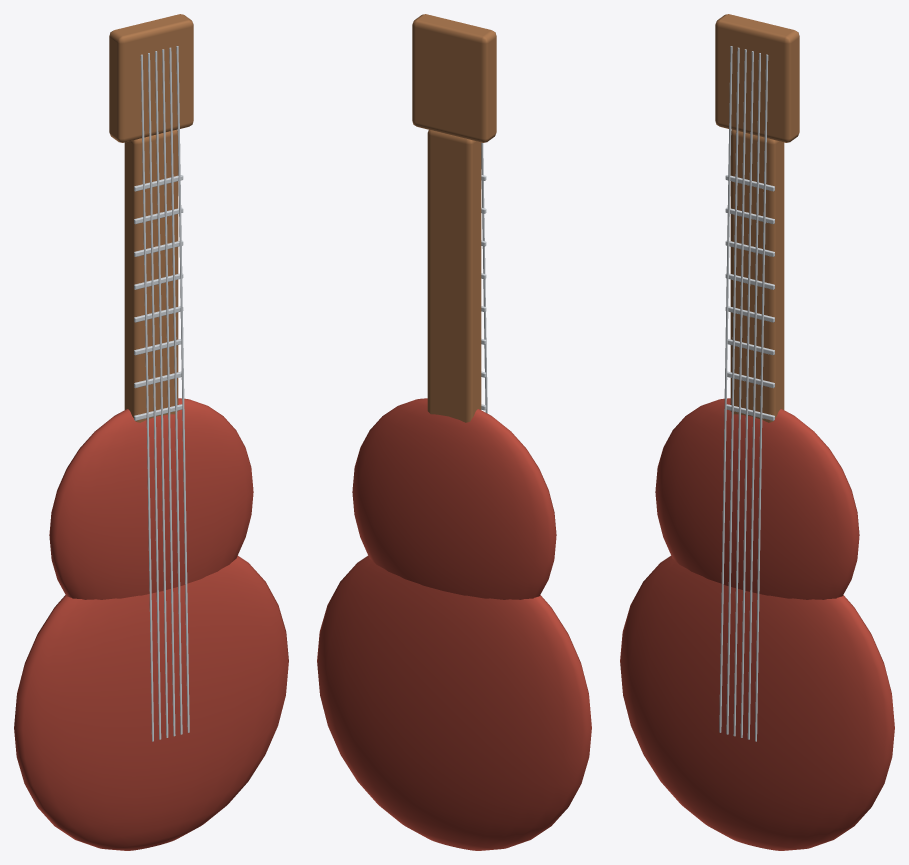
The model's file is wp-guitare-electrique.glb.
3 renders of one model, left to right at view 1: azimuth 30°, elevation 25°; view 2: azimuth 150°, elevation 25°; view 3: azimuth 330°, elevation 25°, orthographic.
Visible parts, largest first — view 1: wp-guitare-electrique; view 2: wp-guitare-electrique; view 3: wp-guitare-electrique.
Part boxes in pixels (left/top/right/bottom): wp-guitare-electrique: left=14, top=14, right=288, bottom=850; wp-guitare-electrique: left=317, top=14, right=591, bottom=850; wp-guitare-electrique: left=620, top=14, right=894, bottom=850.
Size of the model in its own units: 0.35 by 1 by 0.08.
